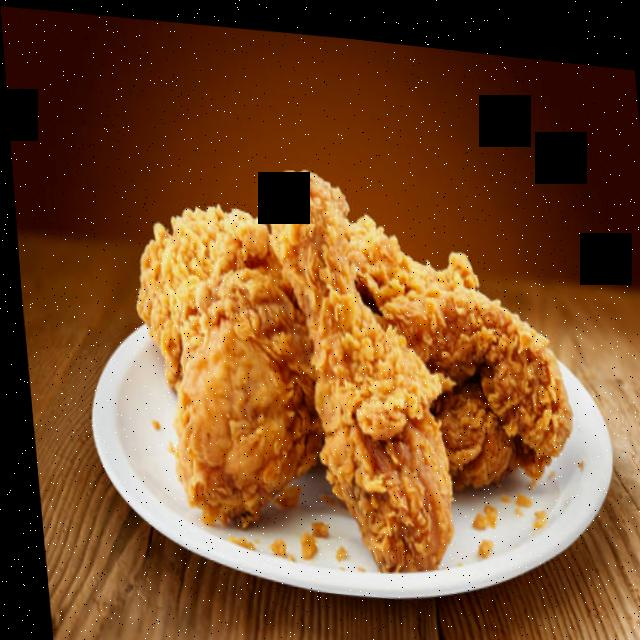Frango: (118, 138, 582, 601)
